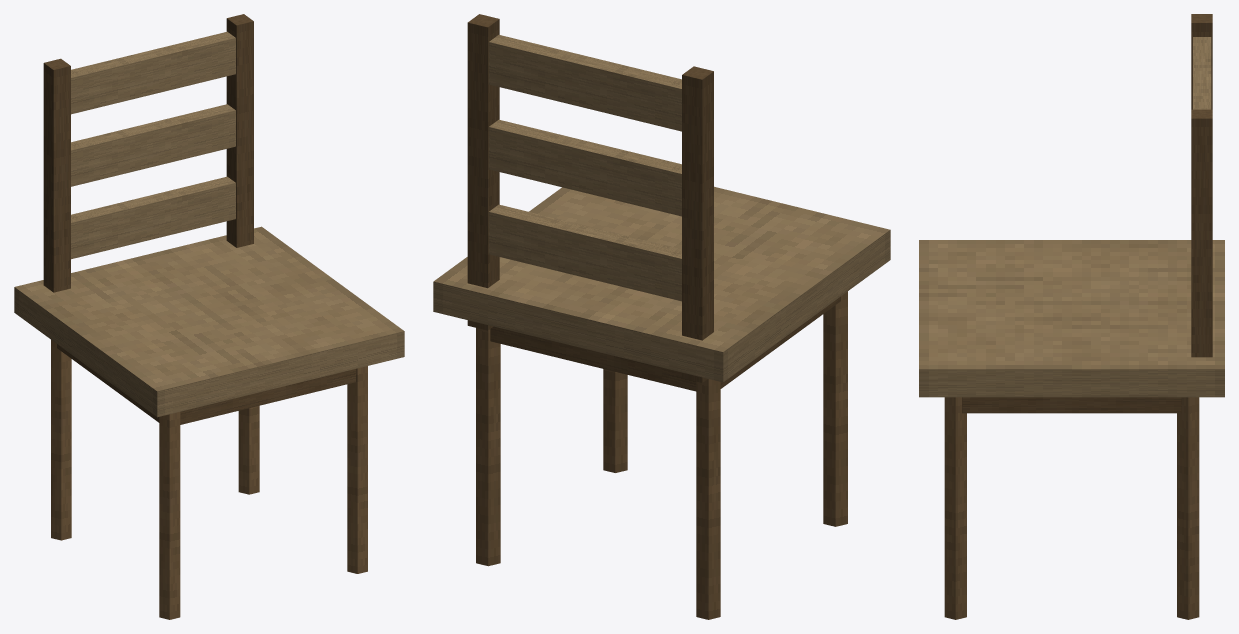
The model's file is chair.glb.
3 renders of one model, left to right at view 1: azimuth 30°, elevation 25°; view 2: azimuth 150°, elevation 25°; view 3: azimuth 270°, elevation 25°, orthographic. The views are drawn at different scales.
Visible parts, largest first — view 1: core_chair; view 2: core_chair; view 3: core_chair.
Part boxes in pixels (x1=…): core_chair: x1=14, y1=14, x2=404, y2=619; core_chair: x1=433, y1=14, x2=890, y2=619; core_chair: x1=919, y1=14, x2=1224, y2=619.
Size of the model in its own units: 0.5 by 0.9 by 0.5.
Materials: 1 (1 with a texture image).
